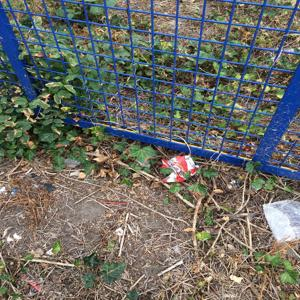metal: (161, 148, 207, 185)
plastic: (257, 196, 300, 238)
